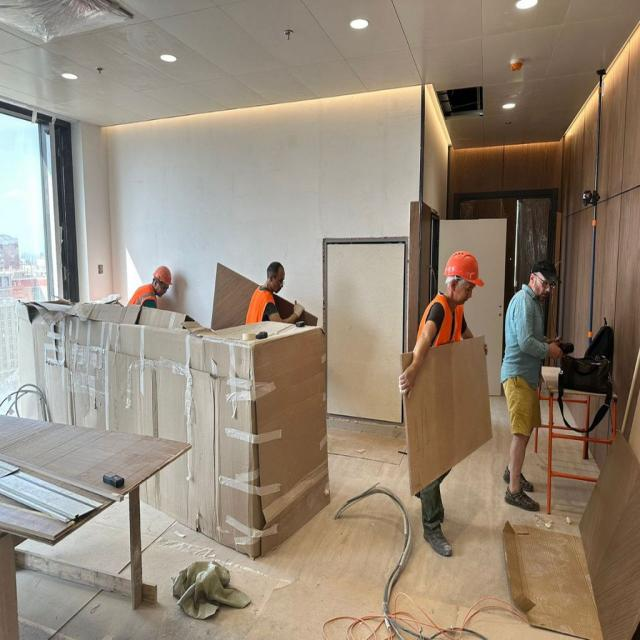Helmet: (442, 251, 486, 307), (153, 266, 175, 302)
NoHelmet: (528, 260, 562, 307), (265, 261, 290, 297)
